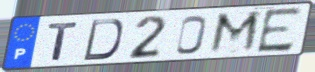0: (175, 14, 209, 56)
2: (127, 14, 169, 61)
D: (81, 18, 125, 62)
E: (254, 6, 304, 56)
M: (206, 10, 264, 56)
T: (46, 21, 81, 62)
